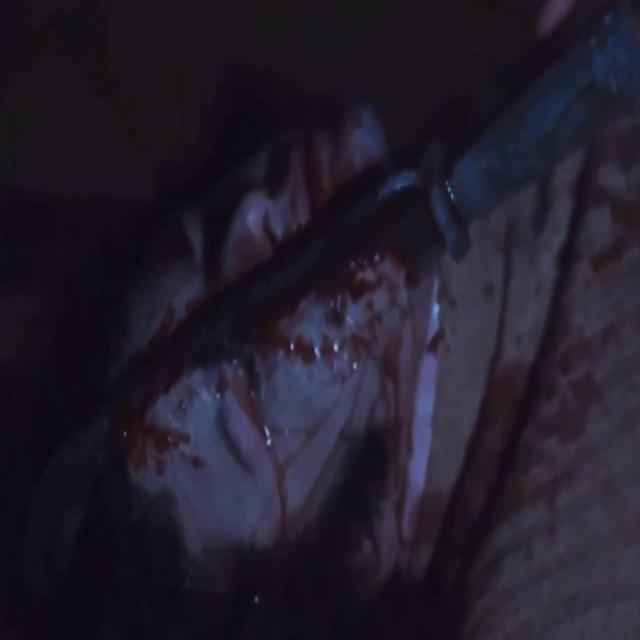flood: (113, 18, 482, 537)
